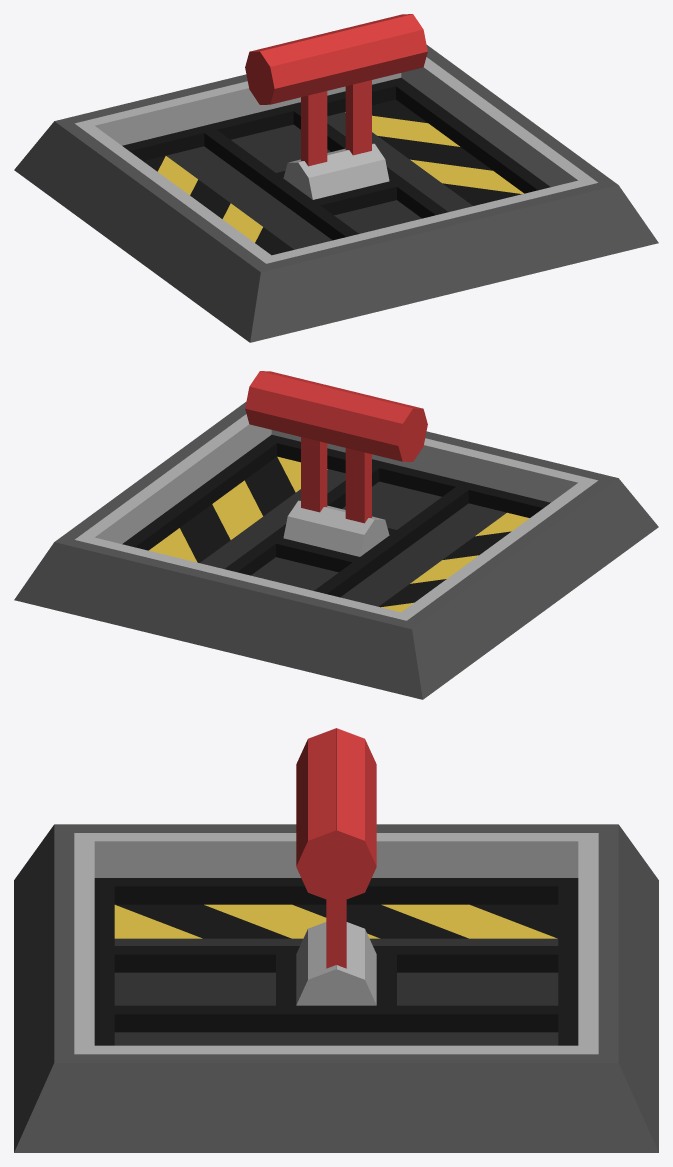
File: starboundswitchlol.obj
The picture shows the model from 3 angles, top to bottom: view 1: azimuth 30°, elevation 25°; view 2: azimuth 150°, elevation 25°; view 3: azimuth 270°, elevation 25°; orthographic projection. The views are drawn at different scales.
Visible parts, largest first — view 1: Plane, Plane.001, Switch, Plane.002, Cube; view 2: Plane, Plane.001, Switch, Plane.002, Cube; view 3: Plane, Plane.001, Switch, Plane.002, Cube.
Boxes of the visible parts, x1,y1,x2,y2 form: Plane: [14, 45, 658, 342]; Plane.001: [122, 77, 550, 249]; Switch: [245, 14, 427, 199]; Plane.002: [143, 99, 523, 255]; Cube: [276, 171, 396, 215]; Plane: [14, 402, 658, 699]; Plane.001: [122, 434, 550, 606]; Switch: [245, 371, 427, 556]; Plane.002: [149, 456, 529, 612]; Cube: [276, 528, 396, 572]; Plane: [14, 824, 658, 1152]; Plane.001: [94, 878, 578, 1045]; Switch: [296, 728, 376, 1005]; Plane.002: [114, 904, 558, 938]; Cube: [276, 954, 396, 1005].
Bounding box in the file's own units: 2 × 0.8125 × 2.
